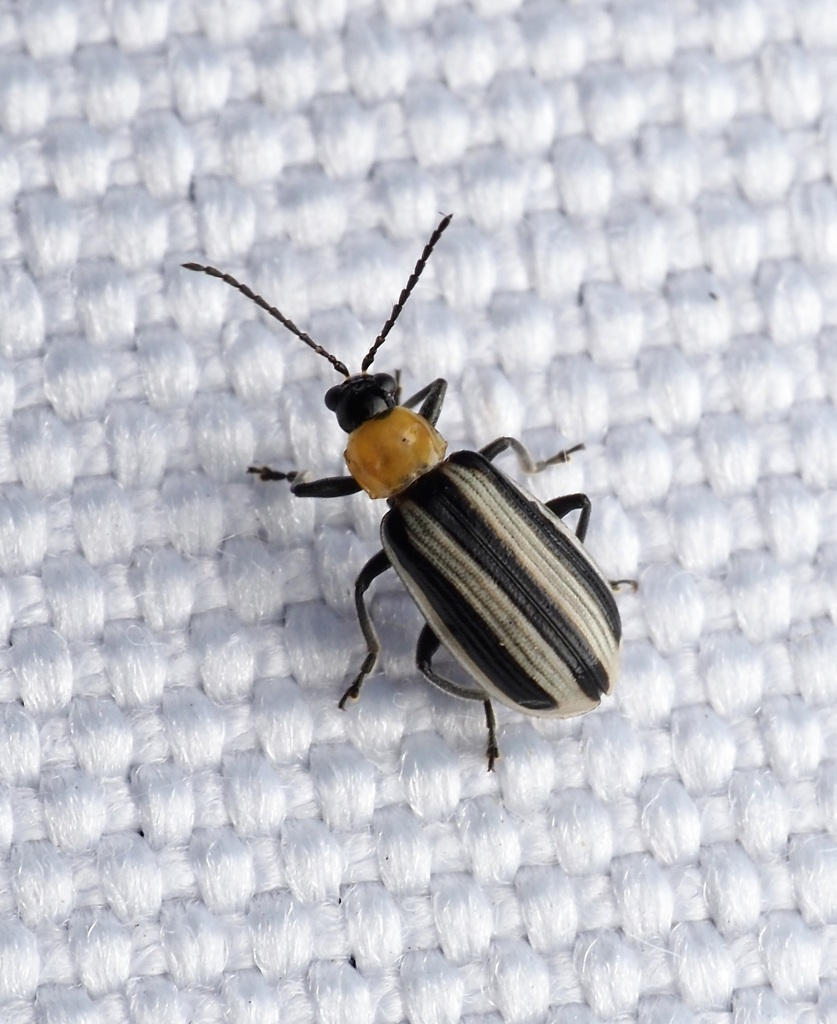potato_beetle: (89, 132, 764, 859)
